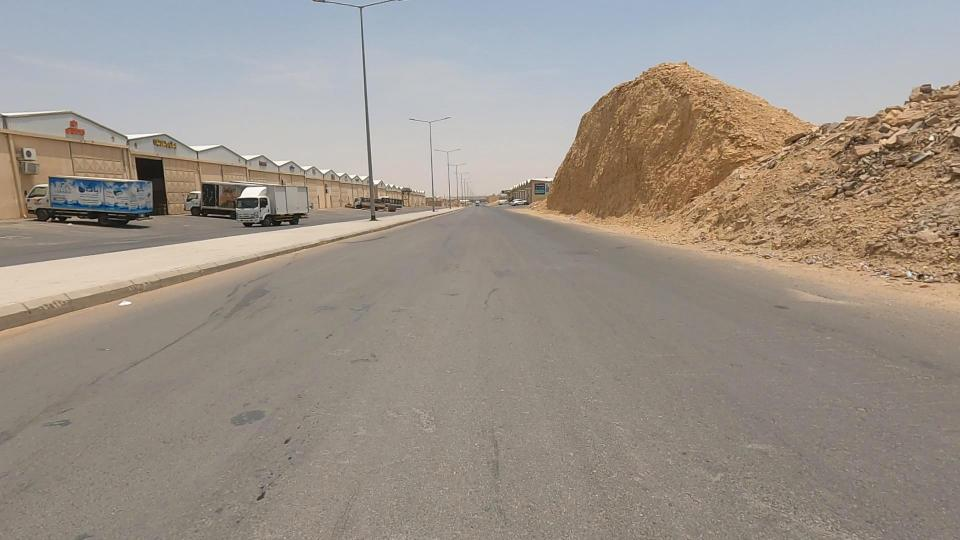GARBAGE: (92, 283, 162, 323)
